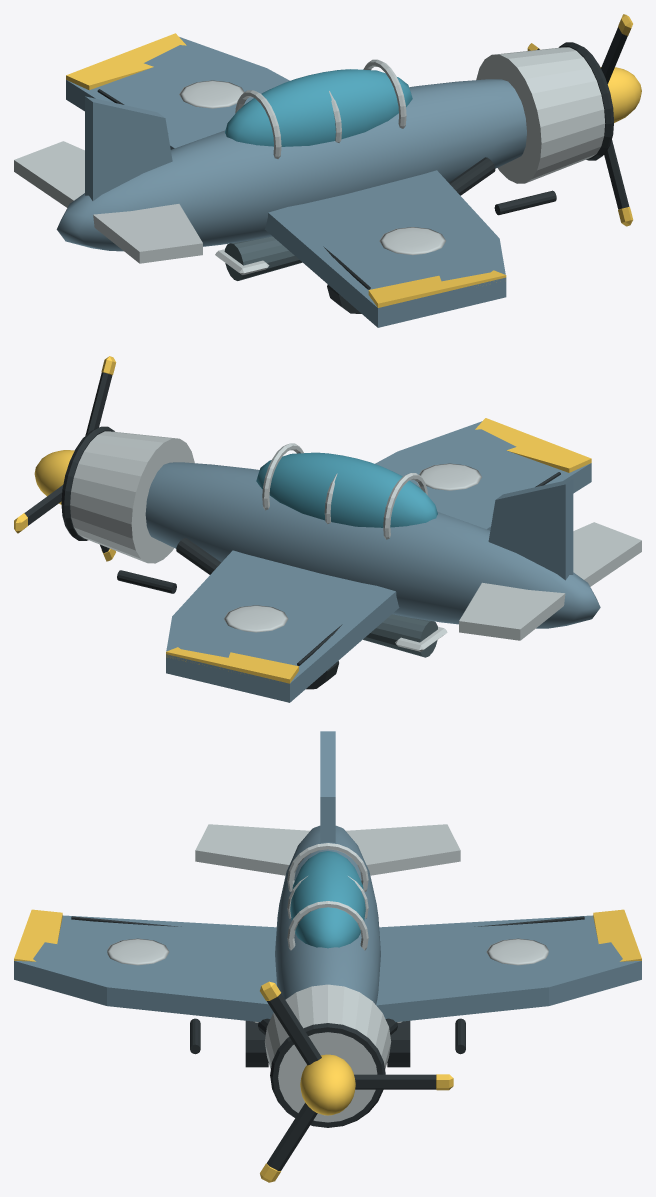
Rendered from aircraft.glb.
3 views of the same model, one above another, from view 1: azimuth 30°, elevation 25°; view 2: azimuth 150°, elevation 25°; view 3: azimuth 270°, elevation 25° (orthographic). The views are drawn at different scales.
Visible parts, largest first — view 1: Aircraft_AZ_Aircraft_Paint, Aircraft_AZ_Brushed_Aluminium, Aircraft_AZ_Cockpit_Glass, Aircraft_AZ_Safety_Yellow, Aircraft_AZ_Engine_And_Tires, Aircraft_AZ_Mine_Iron, Propeller_AZ_Engine_And_Tires, Propeller_AZ_Safety_Yellow; view 2: Aircraft_AZ_Aircraft_Paint, Aircraft_AZ_Brushed_Aluminium, Aircraft_AZ_Cockpit_Glass, Aircraft_AZ_Safety_Yellow, Aircraft_AZ_Engine_And_Tires, Aircraft_AZ_Mine_Iron, Propeller_AZ_Engine_And_Tires, Propeller_AZ_Safety_Yellow; view 3: Aircraft_AZ_Aircraft_Paint, Aircraft_AZ_Brushed_Aluminium, Aircraft_AZ_Safety_Yellow, Aircraft_AZ_Engine_And_Tires, Aircraft_AZ_Cockpit_Glass, Propeller_AZ_Engine_And_Tires, Propeller_AZ_Safety_Yellow.
Part boxes in pixels (x1,y1,x2,y2): Aircraft_AZ_Aircraft_Paint: (56,37,526,327); Aircraft_AZ_Brushed_Aluminium: (14,47,605,274); Aircraft_AZ_Cockpit_Glass: (225,69,412,146); Aircraft_AZ_Safety_Yellow: (66,33,641,307); Aircraft_AZ_Engine_And_Tires: (97,42,613,313); Aircraft_AZ_Mine_Iron: (224,236,302,280); Propeller_AZ_Engine_And_Tires: (537,27,629,209); Propeller_AZ_Safety_Yellow: (527,14,633,226); Aircraft_AZ_Aircraft_Paint: (145,421,600,702); Aircraft_AZ_Brushed_Aluminium: (70,431,641,651); Aircraft_AZ_Cockpit_Glass: (256,452,437,527); Aircraft_AZ_Safety_Yellow: (34,418,591,683); Aircraft_AZ_Engine_And_Tires: (61,426,560,689); Aircraft_AZ_Mine_Iron: (363,614,437,657); Propeller_AZ_Engine_And_Tires: (24,372,112,553); Propeller_AZ_Safety_Yellow: (14,356,116,561); Aircraft_AZ_Aircraft_Paint: (14,731,641,1022); Aircraft_AZ_Brushed_Aluminium: (107,824,548,1122); Aircraft_AZ_Safety_Yellow: (14,909,641,1115); Aircraft_AZ_Engine_And_Tires: (71,916,584,1127); Aircraft_AZ_Cockpit_Glass: (290,851,365,948); Propeller_AZ_Engine_And_Tires: (266,993,436,1170); Propeller_AZ_Safety_Yellow: (260,981,453,1182).
Size of the model in its own units: 1.45 by 0.567 by 1.42.
